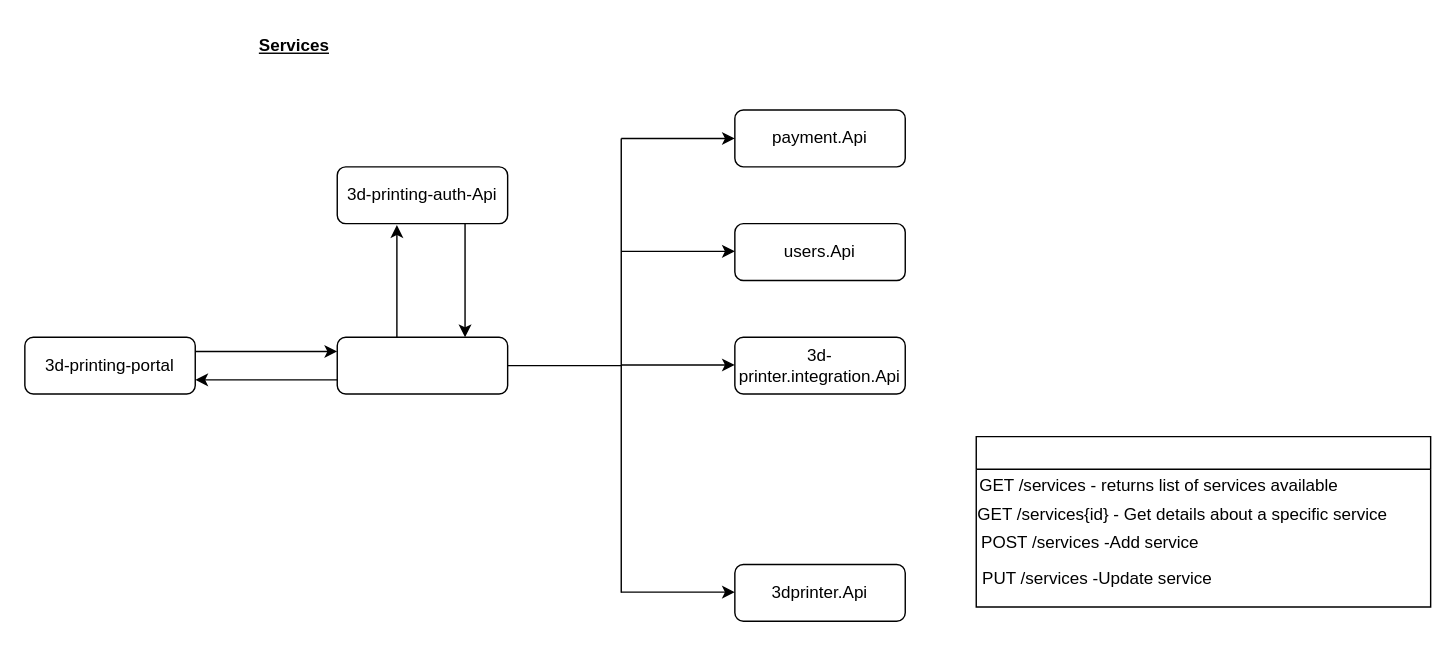
Image size: 1456x646. Some labels were removed from this diagram. Each missing label, with the box of its shape:
3d-printing-Api: (336, 336, 508, 394)
Service Catalog: (975, 435, 1431, 607)
